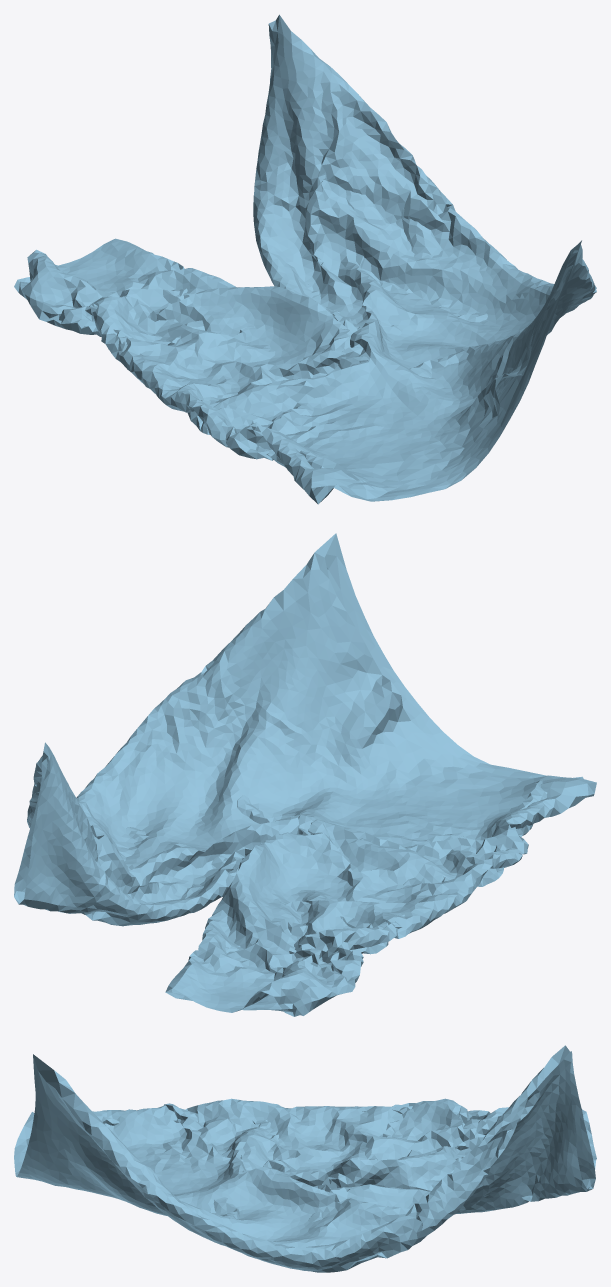
The model's file is frame_07.glb.
The picture shows the model from 3 angles, top to bottom: view 1: azimuth 30°, elevation 25°; view 2: azimuth 150°, elevation 25°; view 3: azimuth 270°, elevation 25°; orthographic projection. The views are drawn at different scales.
Visible parts, largest first — view 1: frame_07.obj; view 2: frame_07.obj; view 3: frame_07.obj.
Part boxes in pixels (<box>): frame_07.obj: <box>14,14,596,504</box>; frame_07.obj: <box>14,533,596,1016</box>; frame_07.obj: <box>14,1045,596,1272</box>.
Bounding box in the file's own units: 1.18 × 0.6375 × 1.74.
